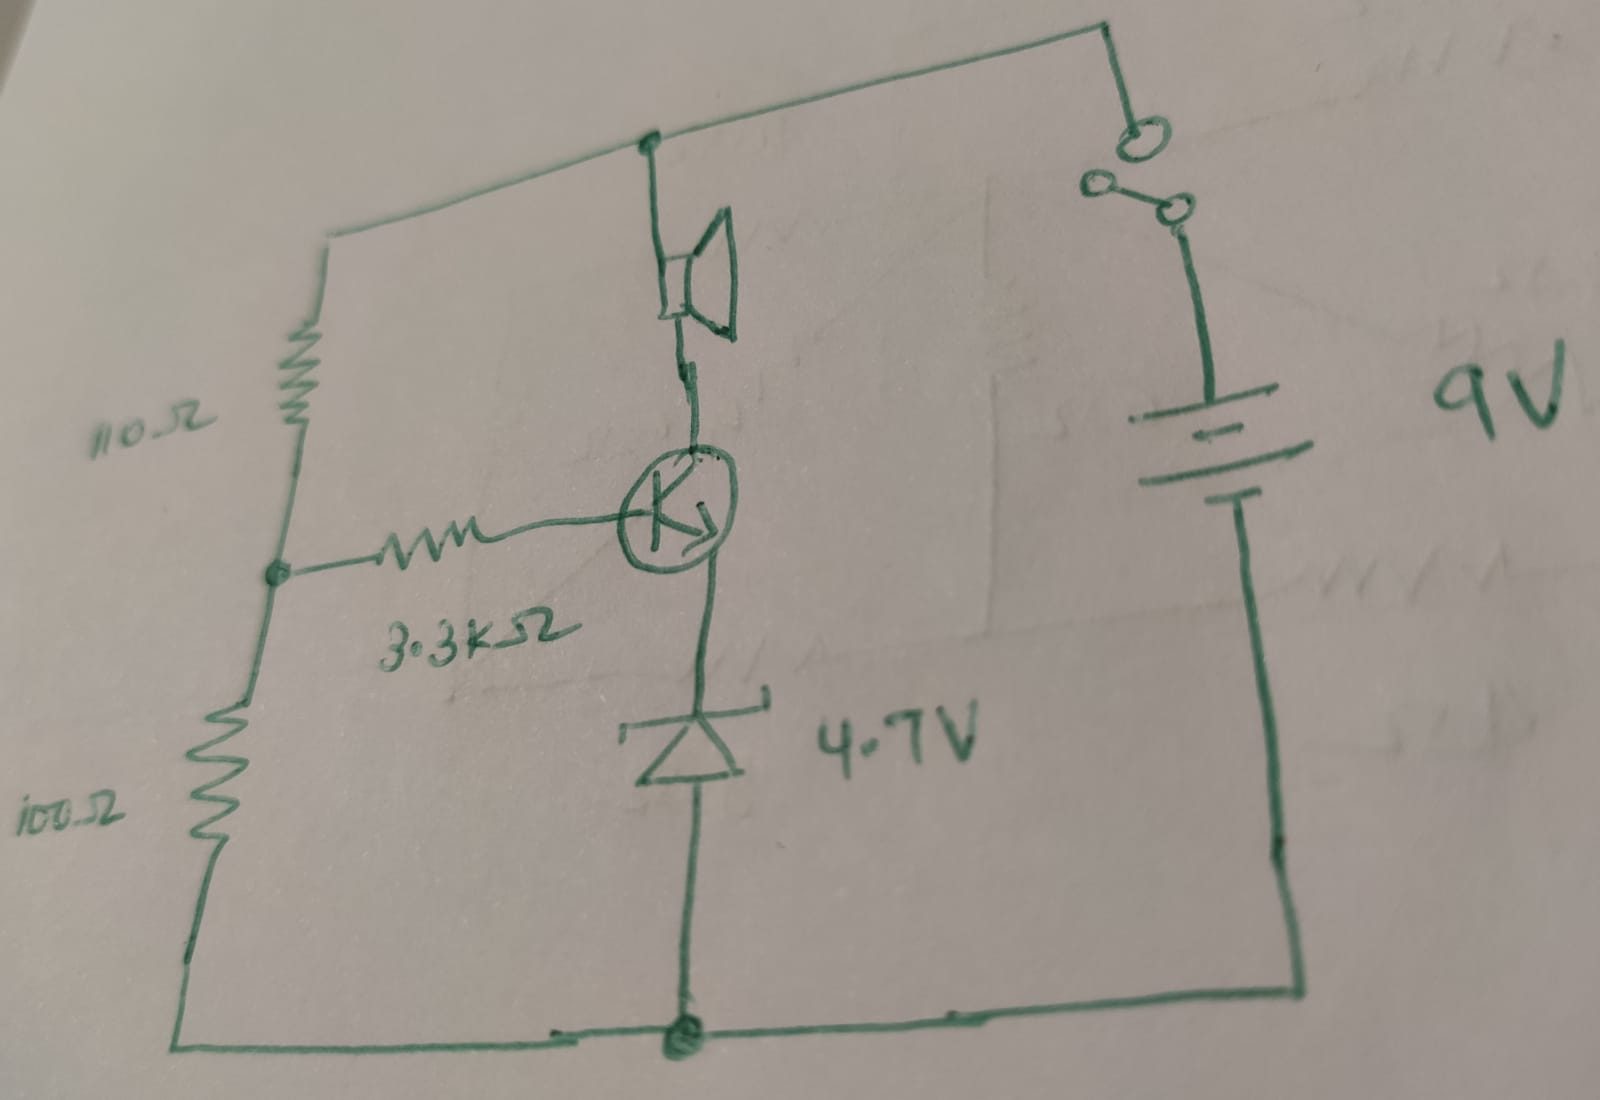diode: (614, 684, 771, 790)
junction: (653, 1006, 714, 1062), (1271, 969, 1324, 1019), (1078, 7, 1126, 58), (627, 122, 666, 160), (258, 554, 300, 590), (309, 226, 349, 263), (156, 1031, 193, 1062)
resistor: (182, 698, 250, 846), (370, 514, 489, 572), (277, 315, 323, 428)
speaker: (646, 204, 744, 343)
switch: (1074, 112, 1200, 232)
text: (387, 602, 584, 670), (815, 703, 984, 775), (1437, 362, 1566, 436), (88, 397, 222, 458), (15, 786, 131, 834)
transistor: (612, 439, 740, 575)
voltage.dc: (1127, 380, 1314, 510)
